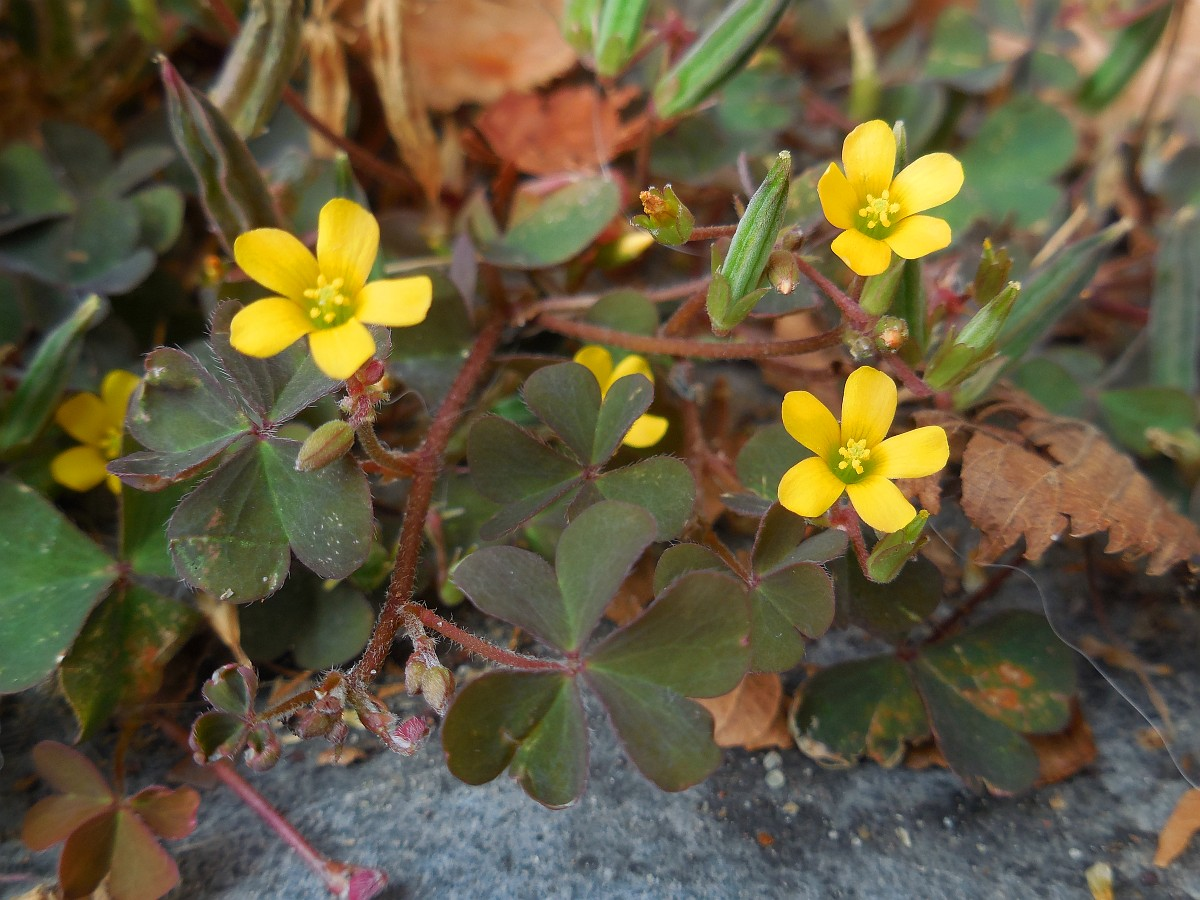oxalis: (145, 247, 1070, 746)
